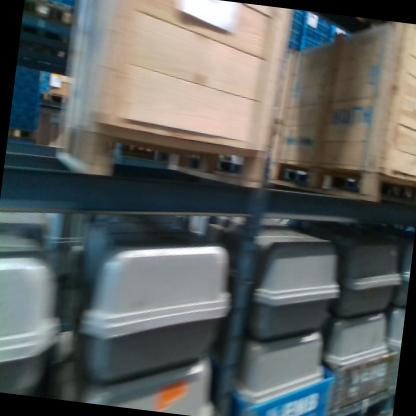pallet: (53, 114, 269, 194), (265, 156, 416, 212), (325, 382, 392, 416), (22, 0, 74, 26), (7, 126, 36, 142), (47, 93, 63, 102), (37, 92, 48, 101)
